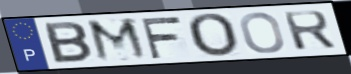B: (41, 20, 95, 65)
F: (137, 15, 184, 61)
M: (84, 16, 153, 64)
O: (185, 12, 241, 59), (238, 11, 288, 55)
R: (280, 9, 340, 52)
